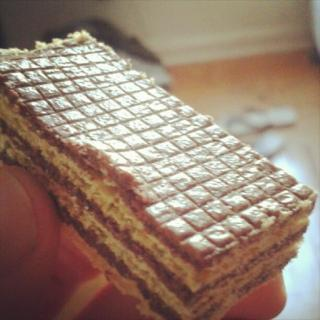Waffle: (0, 28, 319, 320)
